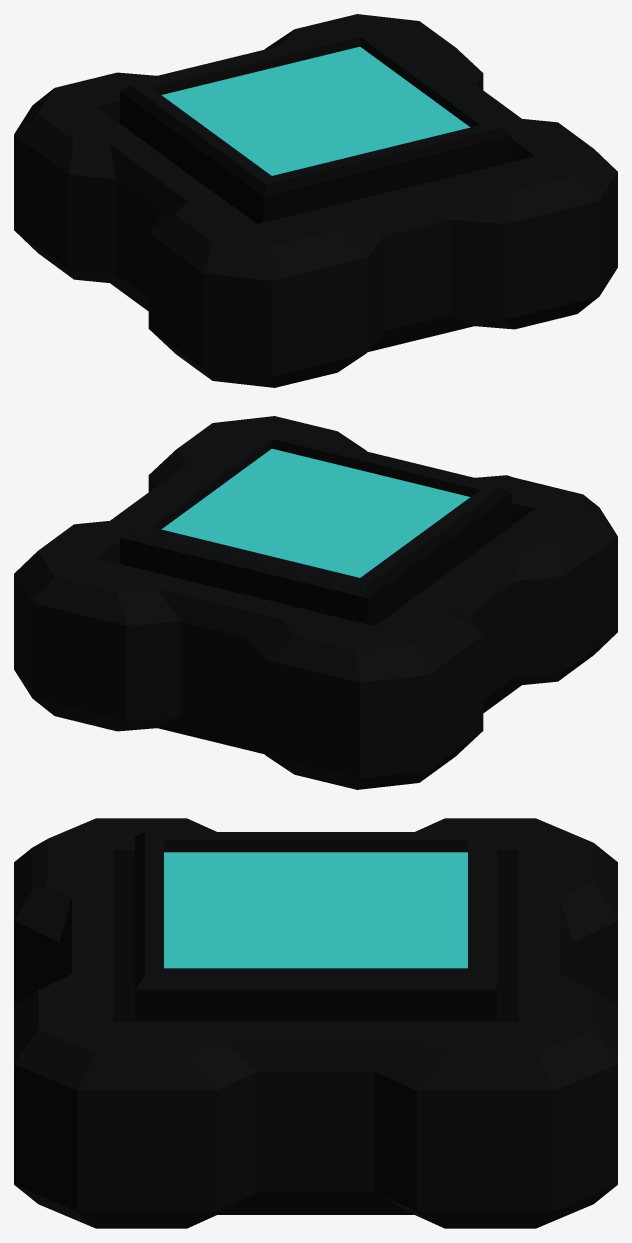
Rendered from SM_Card.obj.
3 renders of one model, top to bottom at view 1: azimuth 30°, elevation 25°; view 2: azimuth 150°, elevation 25°; view 3: azimuth 270°, elevation 25°, orthographic. The views are drawn at different scales.
Parts seen in each view (by area): view 1: SM_Card; view 2: SM_Card; view 3: SM_Card.
Part boxes in pixels (x1,y1,x2,y2): SM_Card: (14, 14, 617, 387); SM_Card: (14, 416, 617, 789); SM_Card: (14, 818, 617, 1228).
Bounding box in the file's own units: 0.3501 × 0.1526 × 0.3501.
